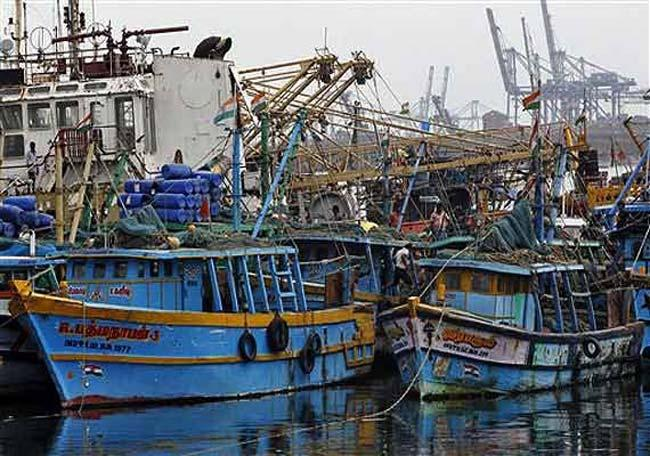fishing boat: (12, 108, 384, 411), (383, 84, 649, 406)
